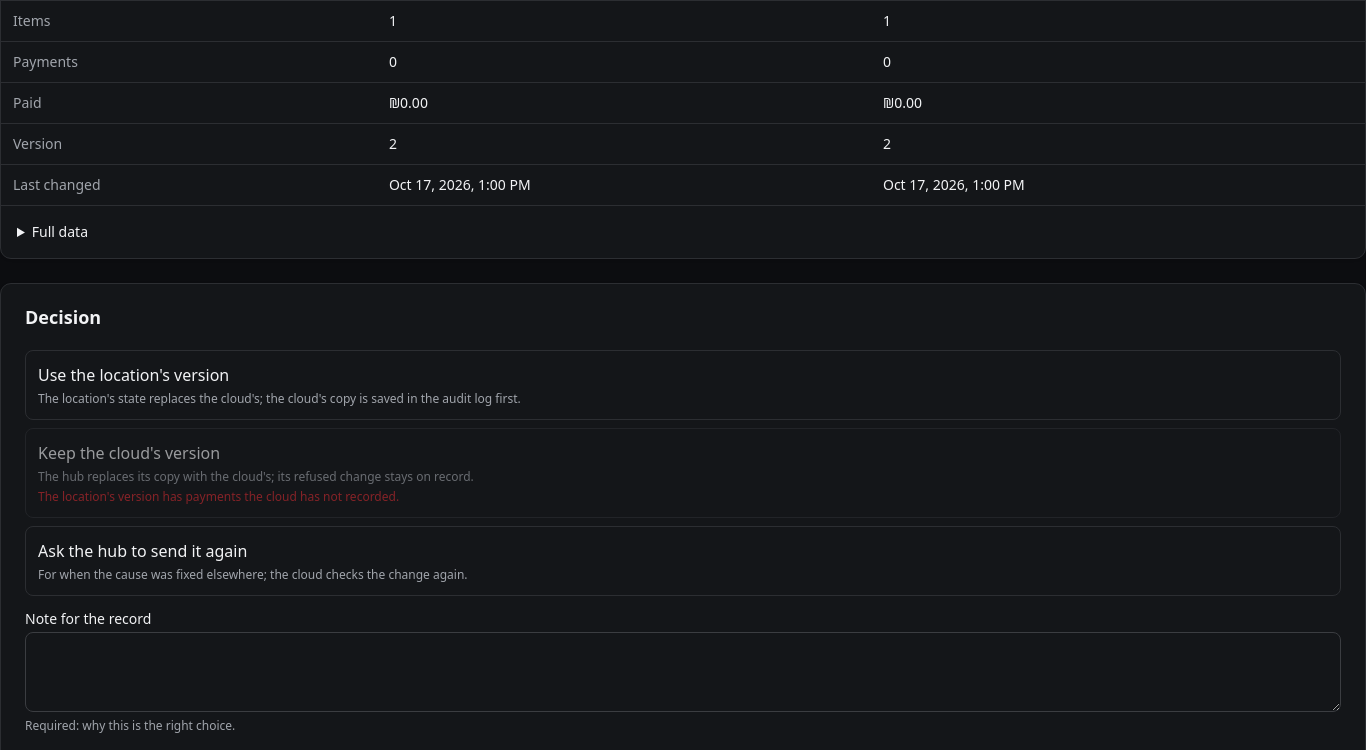
Test: sync issue page › records a decision with a note and reports the API’s reason when refused
This screenshot has width=1366, height=750.
(page scrolled)
Click the radio button labelled "Use the location's version": (134, 374) [25, 350, 1341, 420]
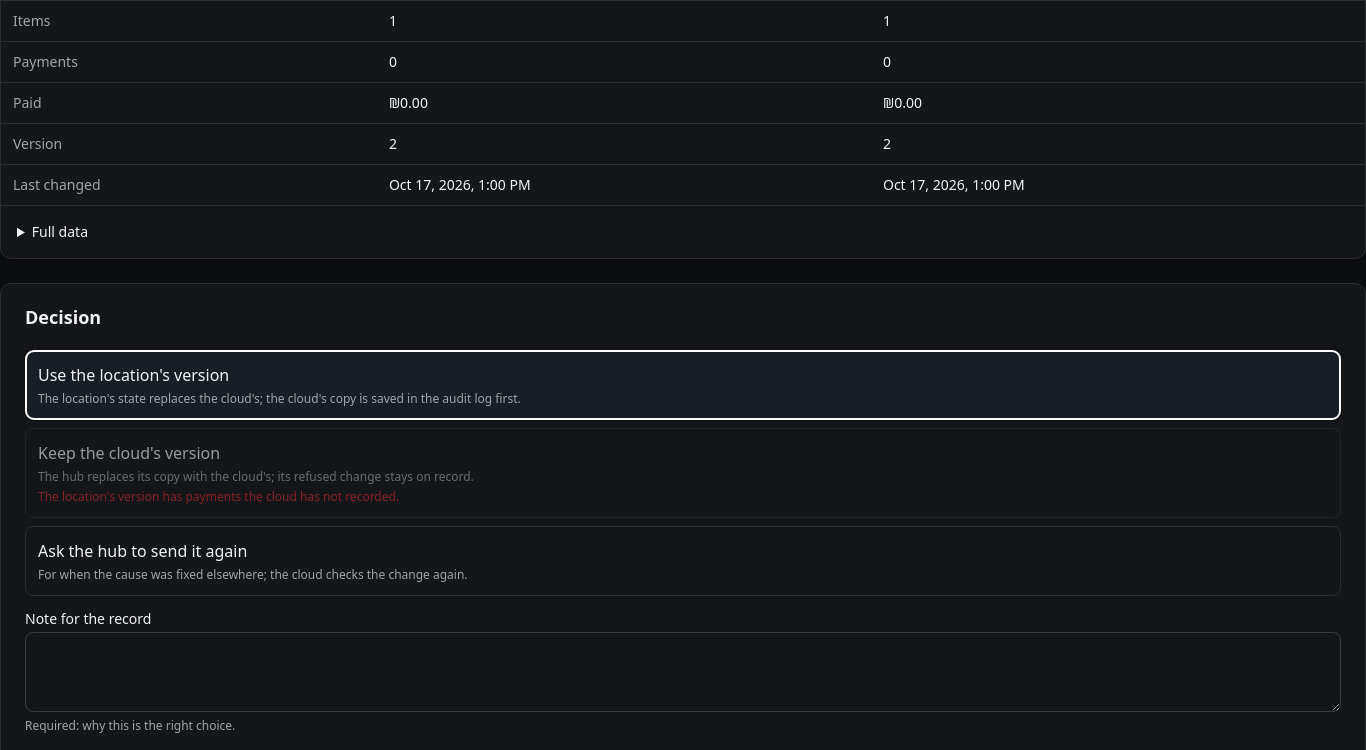
In the text box labelled "Note for the record": (683, 672) [25, 632, 1341, 712], type "Branch confirmed the sale"
(page scrolled)
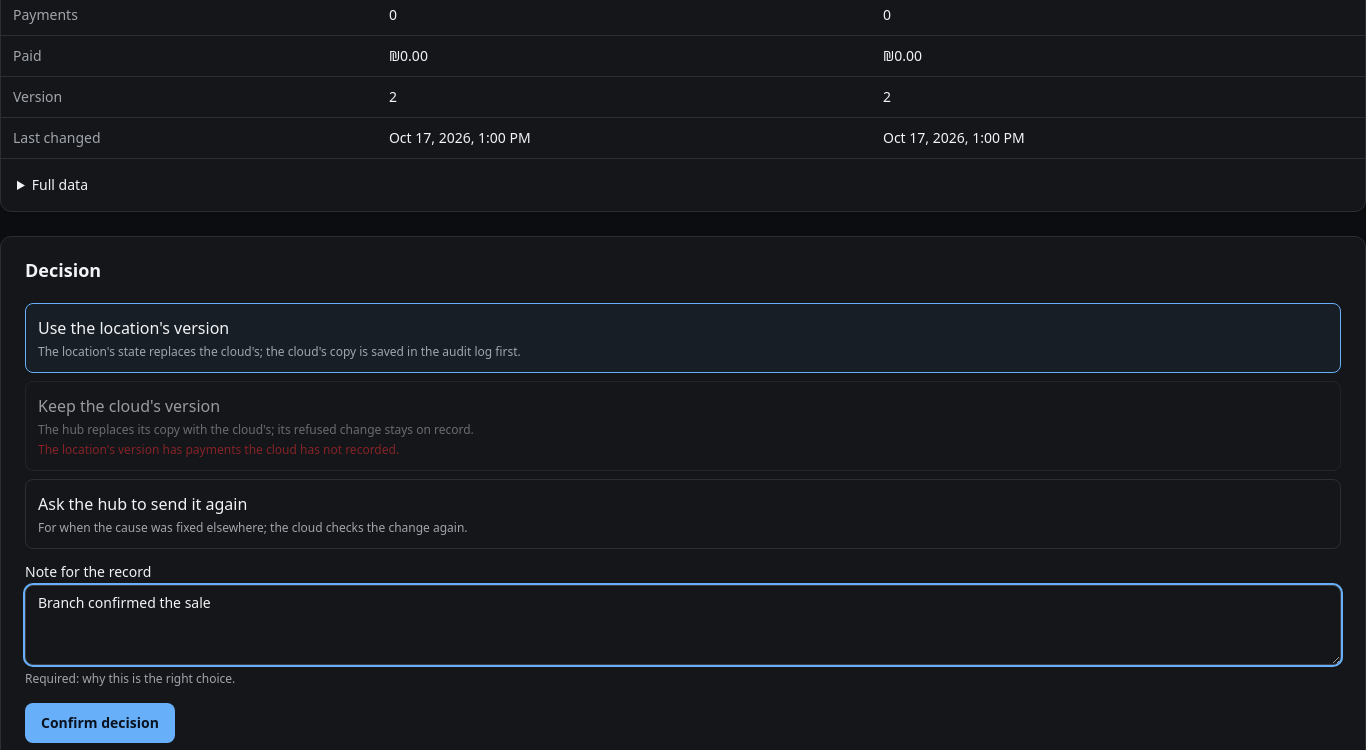
Click the button "Confirm decision": (100, 722) [25, 702, 175, 742]
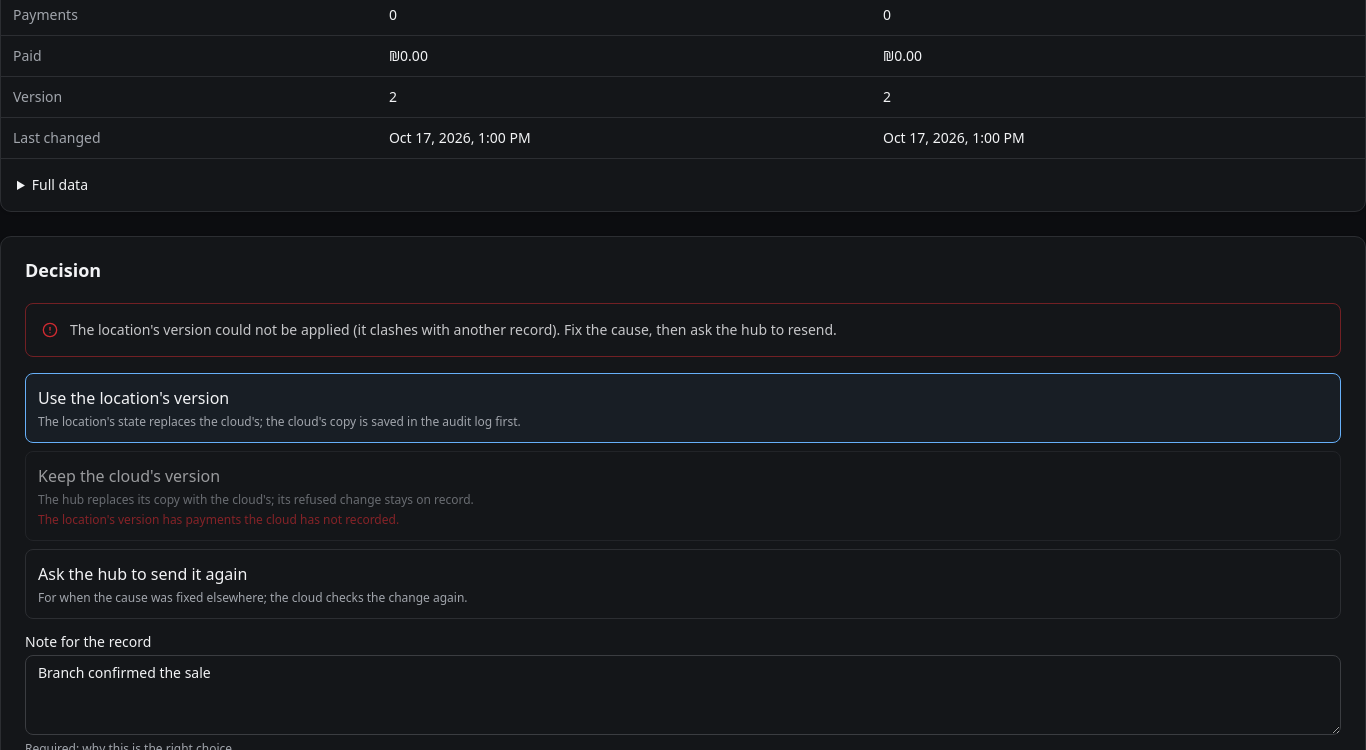
Check: the message shows "The location's version could not be applied", box [70, 320, 837, 338]
